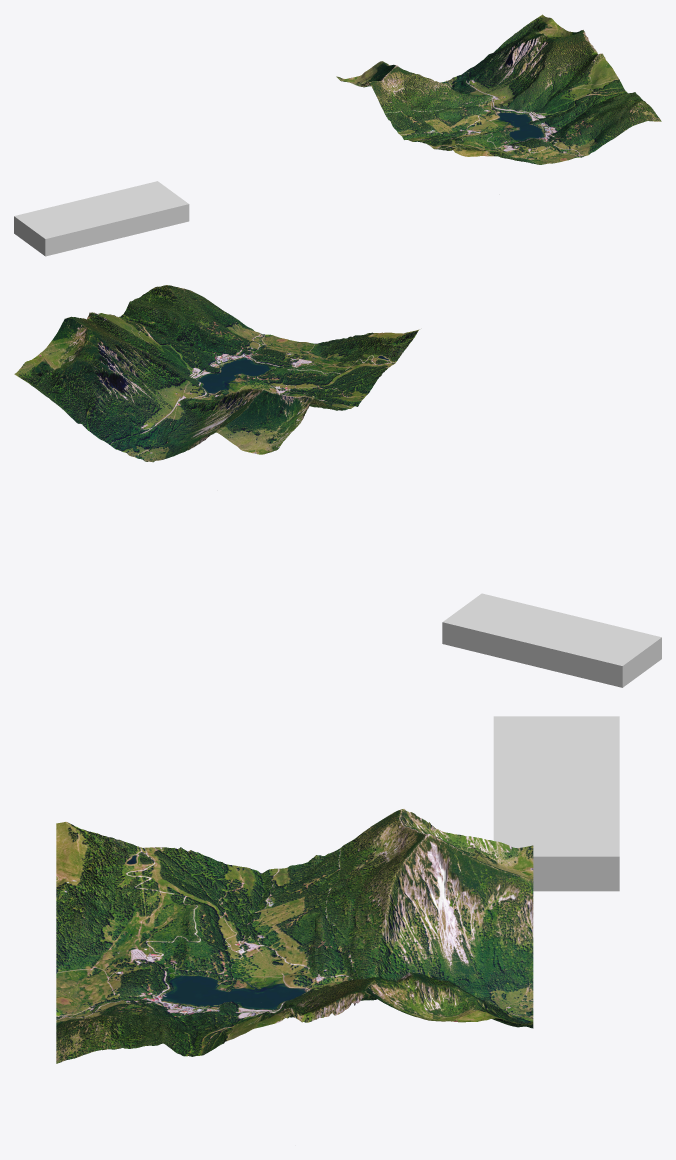
Rendered from asset.glb.
3 views of the same model, one above another, from view 1: azimuth 30°, elevation 25°; view 2: azimuth 150°, elevation 25°; view 3: azimuth 270°, elevation 25° (orthographic). The views are drawn at different scales.
Visible parts, largest first — view 1: 2024_Spitzingsee_DGM_10m, Cube.001; view 2: 2024_Spitzingsee_DGM_10m, Cube.001; view 3: 2024_Spitzingsee_DGM_10m, Cube.001.
Part boxes in pixels (x1=…): 2024_Spitzingsee_DGM_10m: x1=336, y1=14, x2=661, y2=164; Cube.001: x1=14, y1=181, x2=189, y2=256; 2024_Spitzingsee_DGM_10m: x1=14, y1=285, x2=419, y2=462; Cube.001: x1=442, y1=593, x2=661, y2=687; 2024_Spitzingsee_DGM_10m: x1=56, y1=809, x2=533, y2=1063; Cube.001: x1=493, y1=716, x2=619, y2=891.
Size of what is drawn, in the model's own units: 7341 by 1746 by 3530.
1 material, 1 textured.
